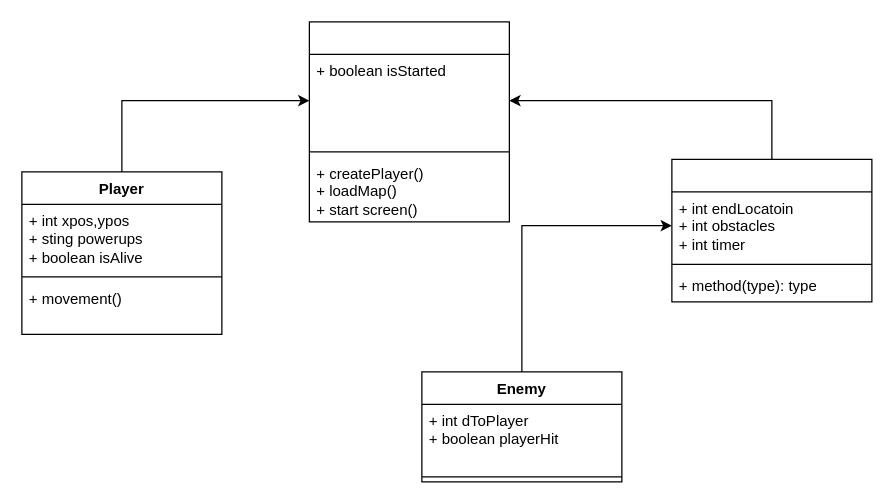
Image size: 894x504. Some labels were removed from this diagram. The shapes that lost their labels are listed below. From the top down, each one's box as (x1, y1, x2, y2) in pixels, then its label:
(308, 21, 509, 222): Main
(671, 158, 872, 302): Level
